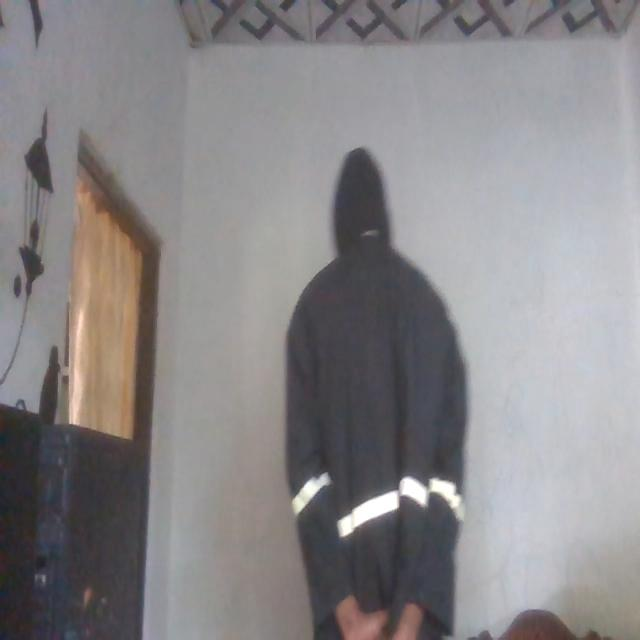Jacket_Wearer: (279, 238, 471, 622)
Person: (281, 147, 473, 640)
